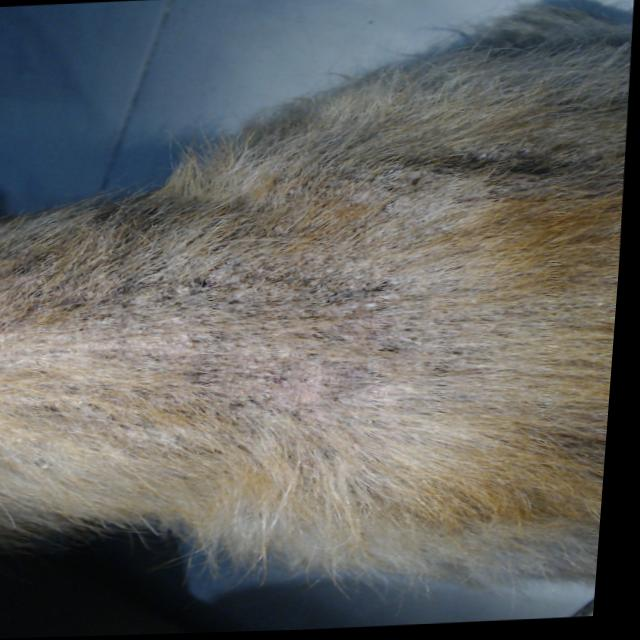demodicosis: (43, 251, 394, 424)
